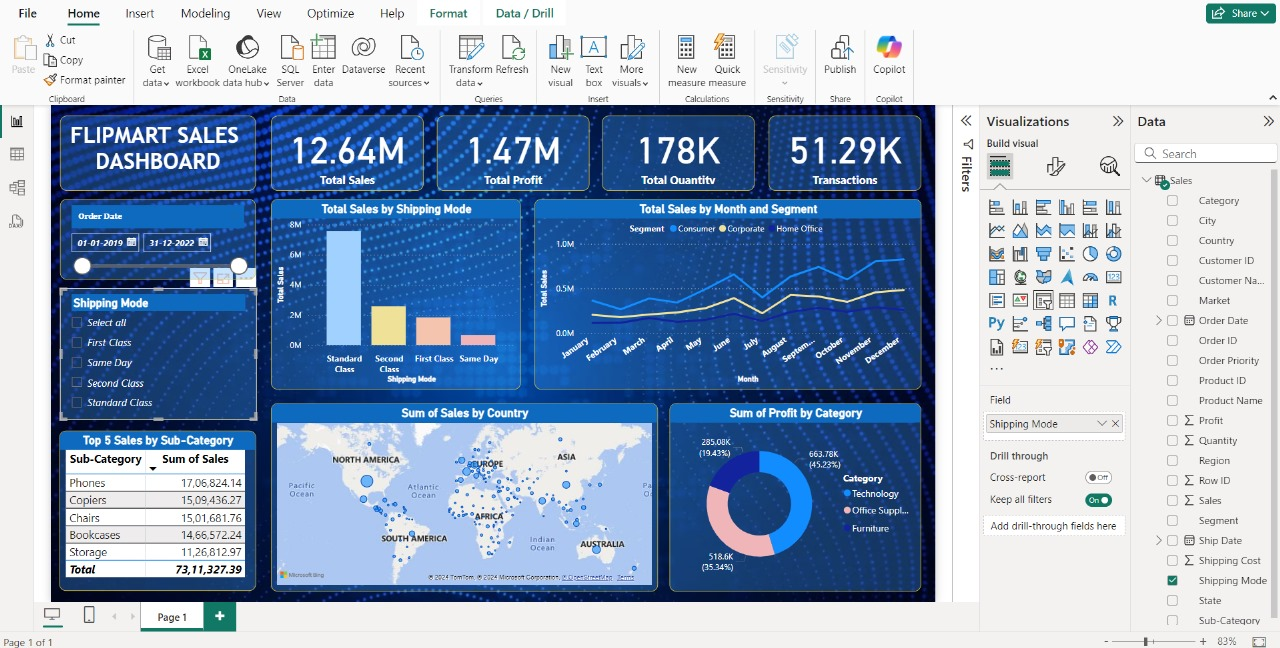

What the dashboard file says about the page in this screenshot:
{"tool":"powerbi","page":{"name":"Page 1","canvas":[1280,720],"ordinal":0},"visuals":[{"type":"card","fields":{"Values":["Sum(Sales.Sales)"]},"box":[318.3,15.4,220.9,108.4],"z":0},{"type":"card","fields":{"Values":["Sum(Sales.Profit)"]},"box":[558.4,15.4,220.9,108.4],"z":1000},{"type":"card","fields":{"Values":["Sum(Sales.Quantity)"]},"box":[797.2,15.4,220.9,108.4],"z":2000},{"type":"card","fields":{"Values":["CountNonNull(Sales.Order ID)"]},"box":[1038.7,15.4,220.9,108.4],"z":3000},{"type":"clusteredColumnChart","title":"Total Sales by Shipping Mode","fields":{"Category":["Sales.Shipping Mode"],"Y":["Sum(Sales.Sales)"]},"box":[318.5,136.3,361.9,276.3],"z":4000},{"type":"lineChart","title":"Total Sales by Month and Segment","fields":{"Y":["Sum(Sales.Sales)"],"Category":["Sales.Order Date.Variation.Date Hierarchy.Month"],"Series":["Sales.Segment"]},"box":[699.8,135.8,559.9,275.8],"z":5000},{"type":"donutChart","fields":{"Category":["Sales.Category"],"Y":["Sum(Sales.Profit)"]},"box":[895.2,431.9,364.3,272.7],"z":6000},{"type":"map","fields":{"Size":["Sum(Sales.Sales)"],"Category":["Sales.Country"]},"box":[318.5,431.9,559.8,272.7],"z":7000},{"type":"tableEx","title":"Top 5 Sales by Sub-Category","fields":{"Values":["Sales.Sub-Category","Sum(Sales.Sales)"]},"box":[12.1,471.7,284.7,231.6],"z":8000},{"type":"slicer","fields":{"Values":["Sales.Shipping Mode"]},"box":[13.3,265.4,284.7,190.6],"z":9000},{"type":"slicer","fields":{"Values":["Sales.Order Date"]},"box":[13.3,136.3,283.5,117],"z":10000},{"type":"textbox","box":[13.3,15.7,283.5,108.6],"z":11000}]}

Visuals, with their boxes on the page's 1280x720 design canvas (x1, y1, x2, y2). These are canvas units, not pixel positions in the 1280x648 screenshot, which may show the page scaled, cropped or inside an application window:
card - Sum(Sales.Sales): (318, 15, 539, 124)
card - Sum(Sales.Profit): (558, 15, 779, 124)
card - Sum(Sales.Quantity): (797, 15, 1018, 124)
card - CountNonNull(Sales.Order ID): (1039, 15, 1260, 124)
"Total Sales by Shipping Mode" clusteredColumnChart: (318, 136, 680, 413)
"Total Sales by Month and Segment" lineChart: (700, 136, 1260, 412)
donutChart - Sales.Category x Sum(Sales.Profit): (895, 432, 1260, 705)
map - Sum(Sales.Sales) x Sales.Country: (318, 432, 878, 705)
"Top 5 Sales by Sub-Category" tableEx: (12, 472, 297, 703)
slicer - Sales.Shipping Mode: (13, 265, 298, 456)
slicer - Sales.Order Date: (13, 136, 297, 253)
textbox: (13, 16, 297, 124)
